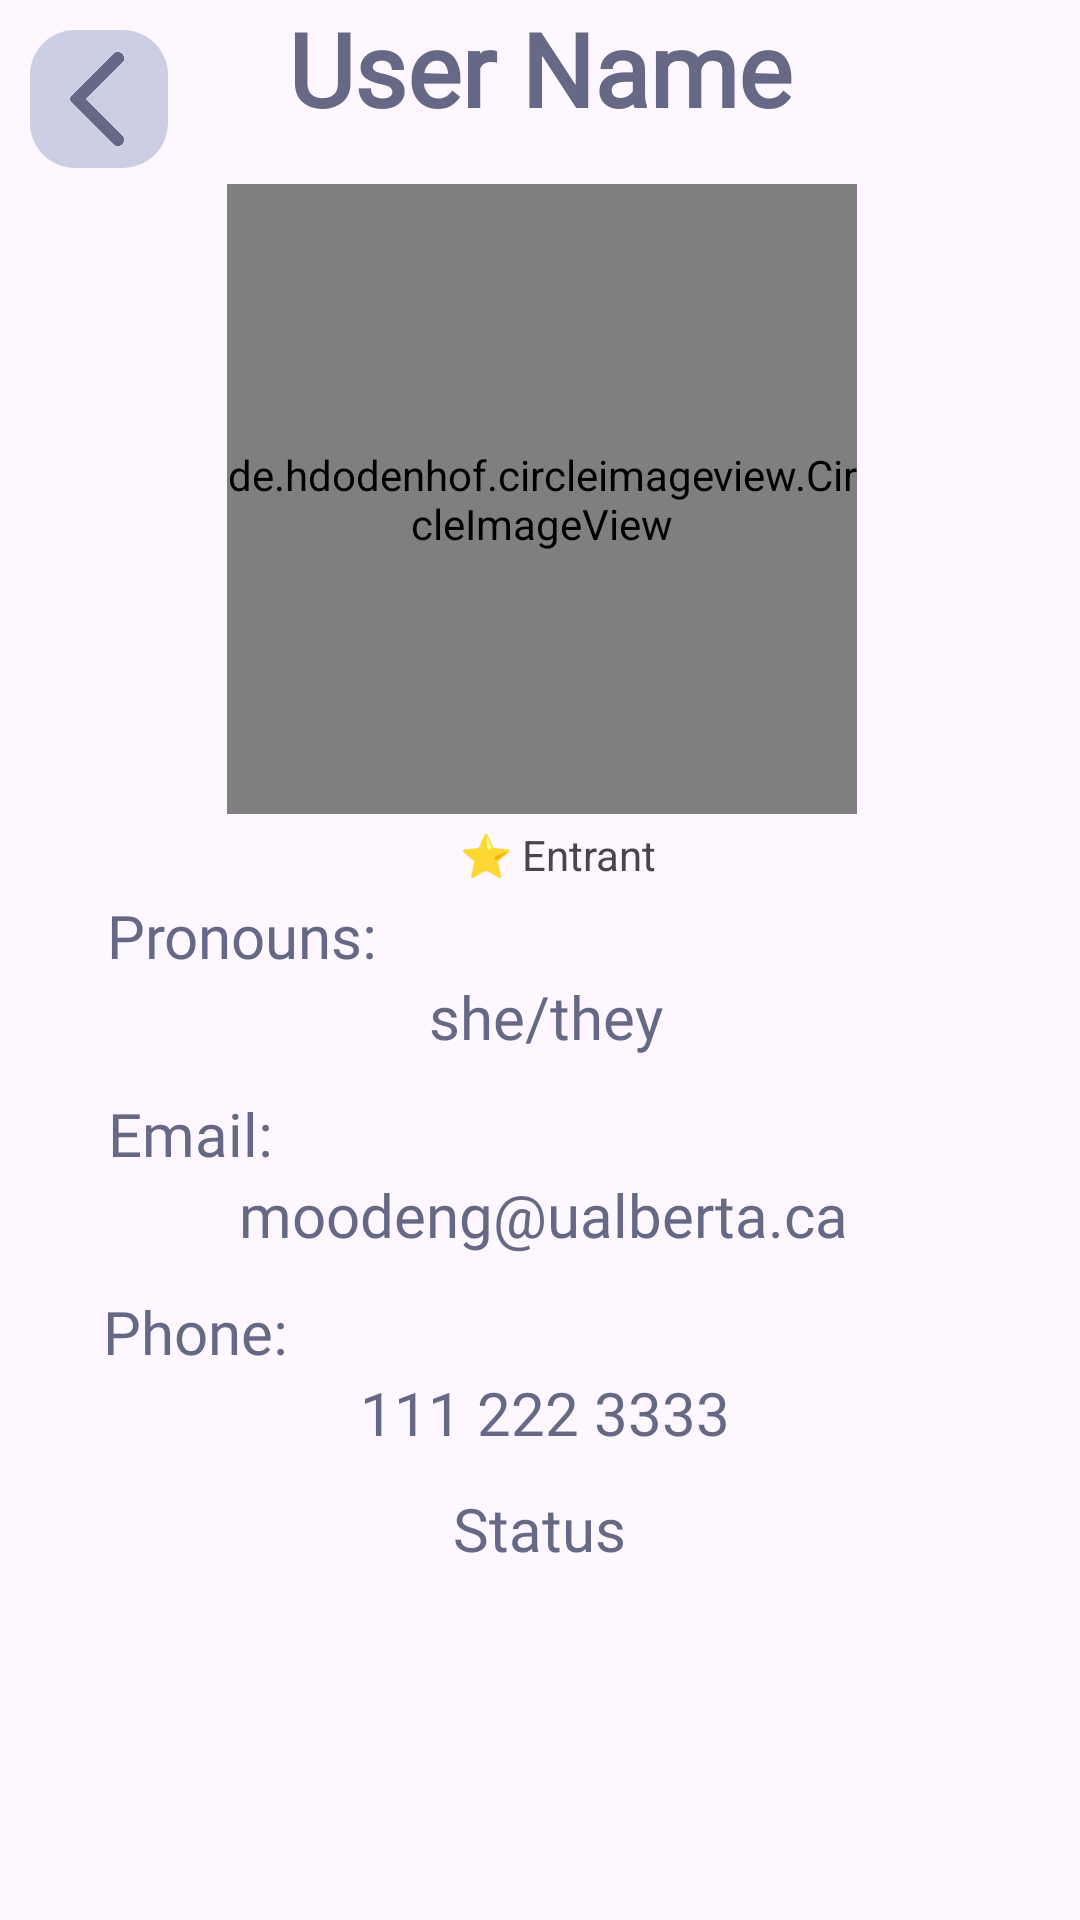

Icons on this 1080 × 1920 Android screen, each with its box as (x1, y1, x2, y2):
back arrow: (30, 30, 168, 168)
